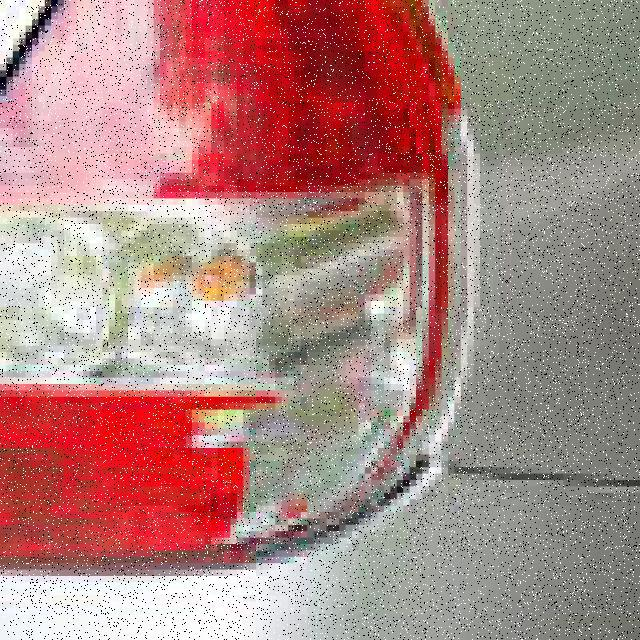Taillight-Damage: (0, 0, 621, 634)
